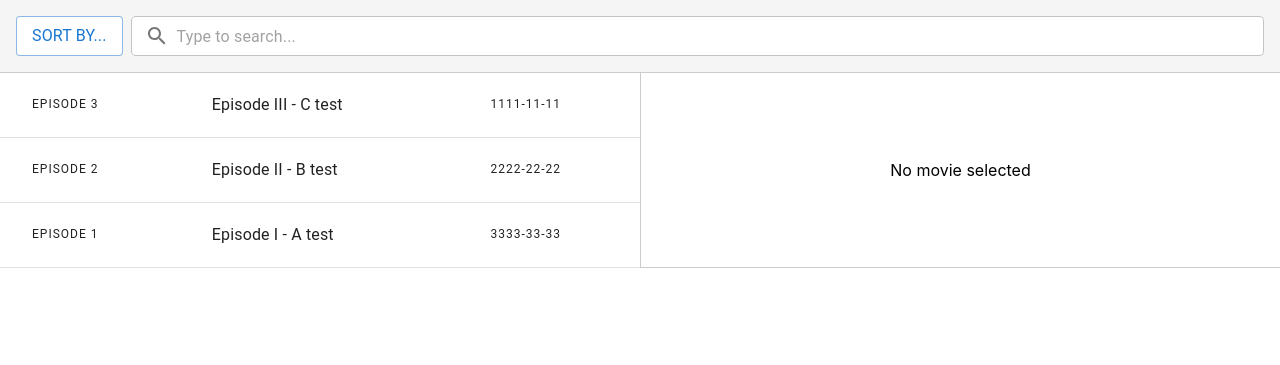
Test case: displays details of a selected episode
Click the text "Episode I - A test". click: (273, 234)
box: [212,225,334,244]
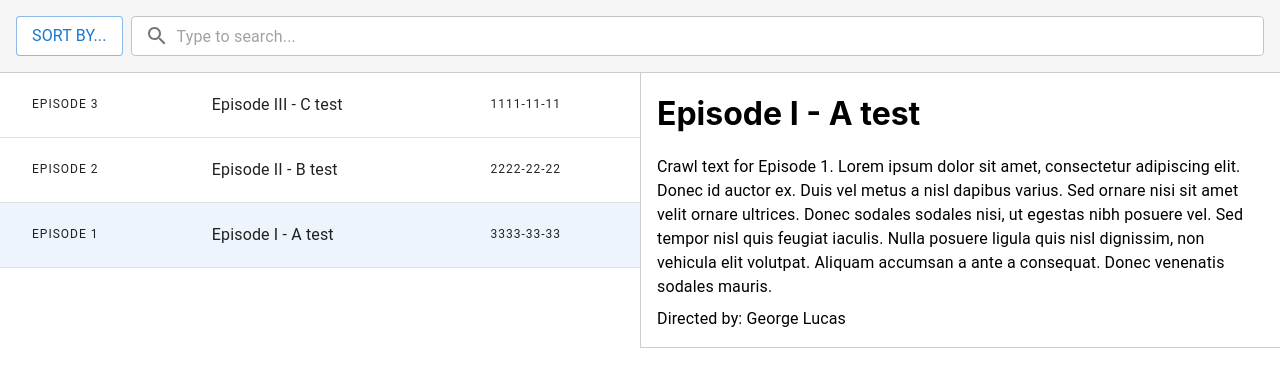
expect the text "Crawl text for Episode 1" is shown: met, box [657,157,1243,296]
